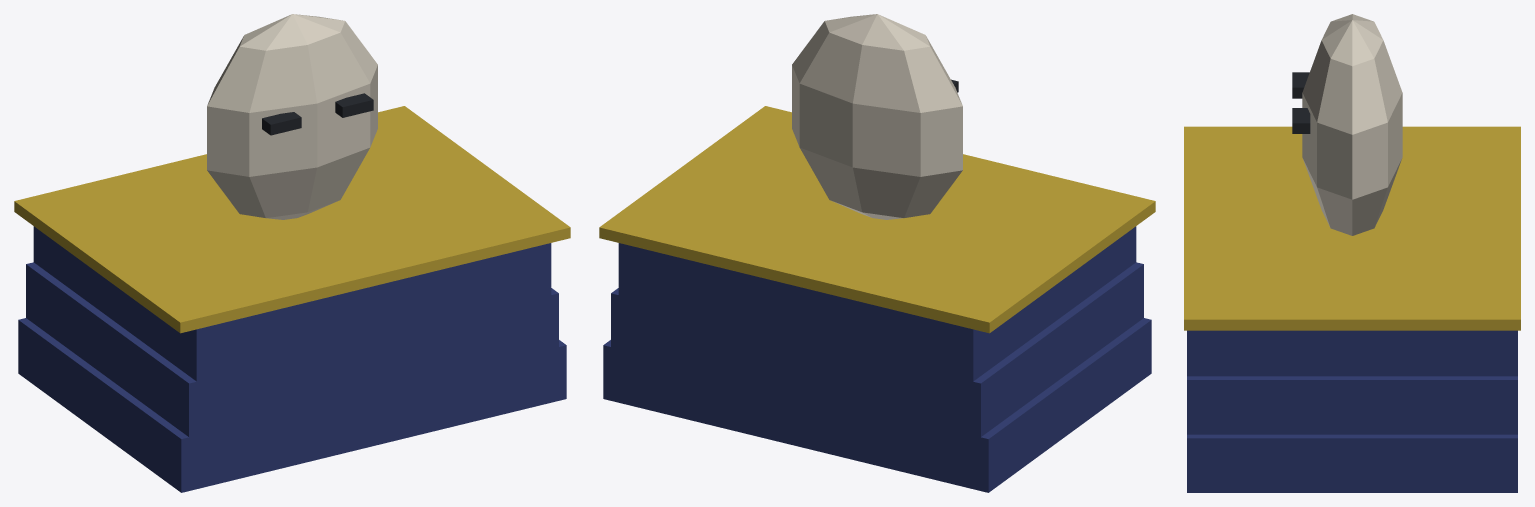
The model's file is clothes-costume.glb.
The picture shows the model from 3 angles, left to right: view 1: azimuth 30°, elevation 25°; view 2: azimuth 150°, elevation 25°; view 3: azimuth 270°, elevation 25°; orthographic projection.
Visible parts, largest first — view 1: m; view 2: m; view 3: m.
Part boxes in pixels (x1,y1,x2,y2): m: (14,14,570,492); m: (599,14,1155,492); m: (1184,14,1520,492).
Bounding box in the file's own units: 0.15 × 0.1367 × 0.1105.
